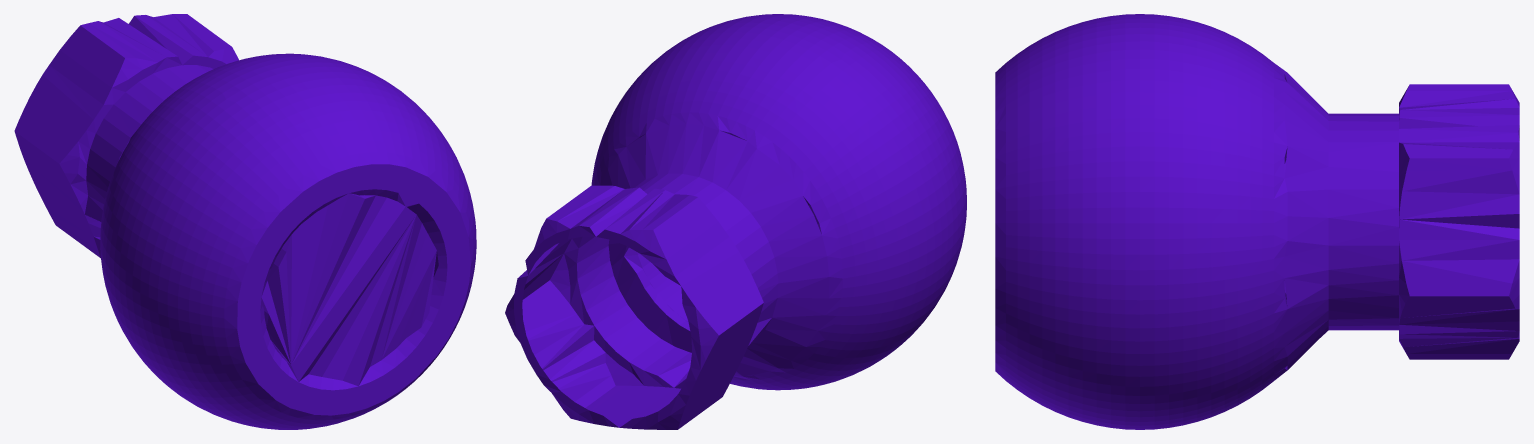
Rendered from Carriage1_rh.OBJ.
The picture shows the model from 3 angles, left to right: view 1: azimuth 30°, elevation 25°; view 2: azimuth 150°, elevation 25°; view 3: azimuth 270°, elevation 25°; orthographic projection. The views are drawn at different scales.
Visible parts, largest first — view 1: /ambf/env/Carriage1_rh_Carriage1_rh; view 2: /ambf/env/Carriage1_rh_Carriage1_rh; view 3: /ambf/env/Carriage1_rh_Carriage1_rh.
Part boxes in pixels (<box>): /ambf/env/Carriage1_rh_Carriage1_rh: <box>14,14,476,429</box>; /ambf/env/Carriage1_rh_Carriage1_rh: <box>505,14,966,429</box>; /ambf/env/Carriage1_rh_Carriage1_rh: <box>995,14,1519,429</box>.
Size of the model in its own units: 0.0183 by 0.0183 by 0.023.
